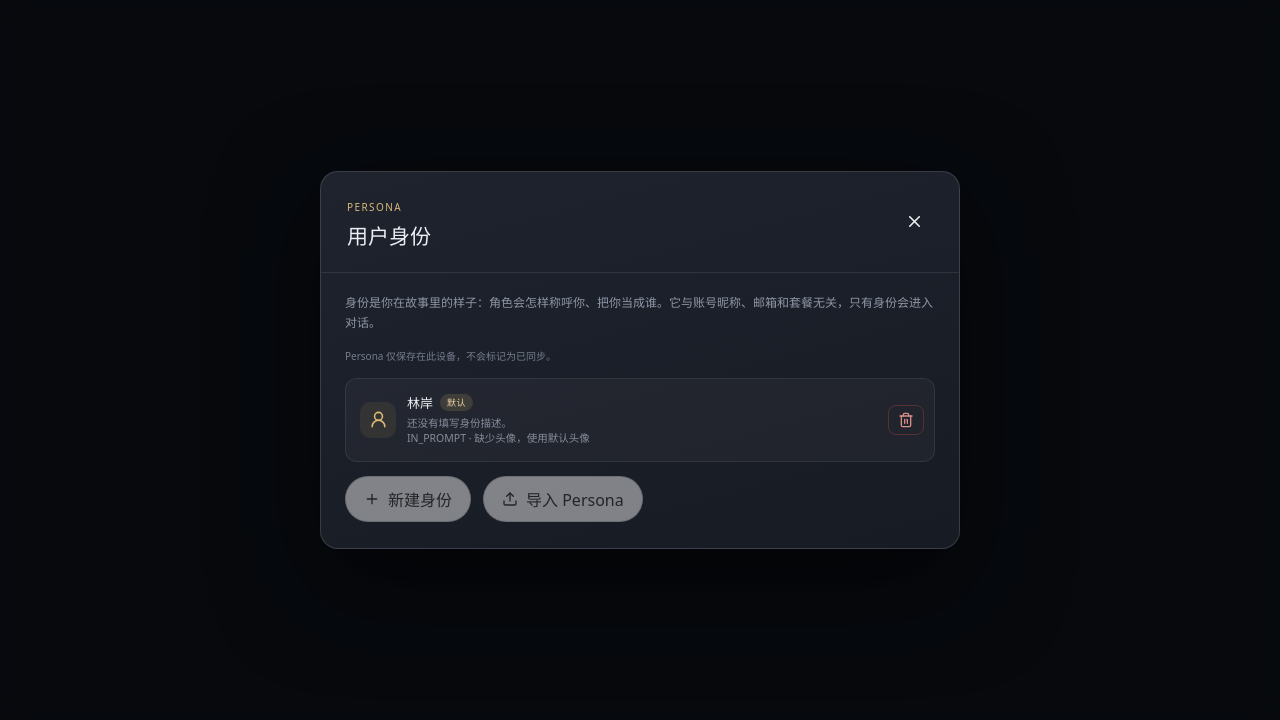
it: PersonaPanel › deletes a persona after the user confirms
Click the button named "删除身份 林岸" at (906, 420), box top-left (888, 405), bottom-right (924, 435)
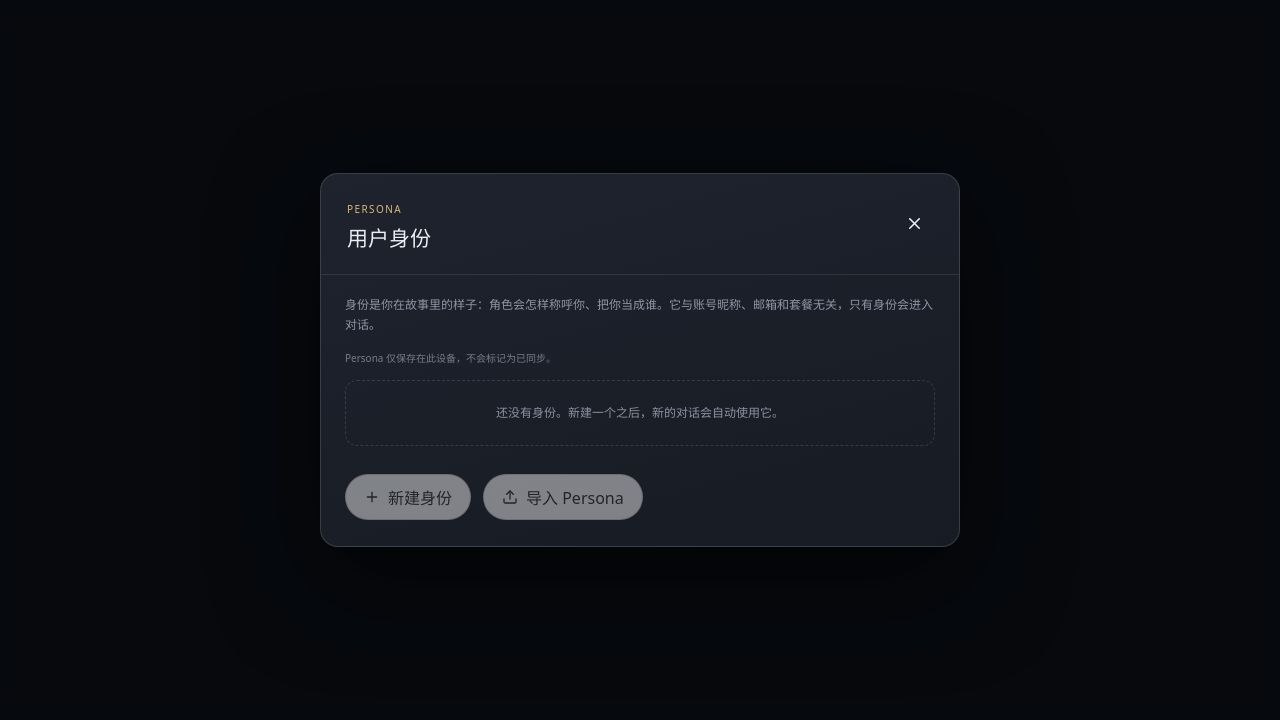
Check: the text "还没有身份。新建一个之后，新的对话会自动使用它。" is shown, box top-left (345, 380), bottom-right (935, 446)
